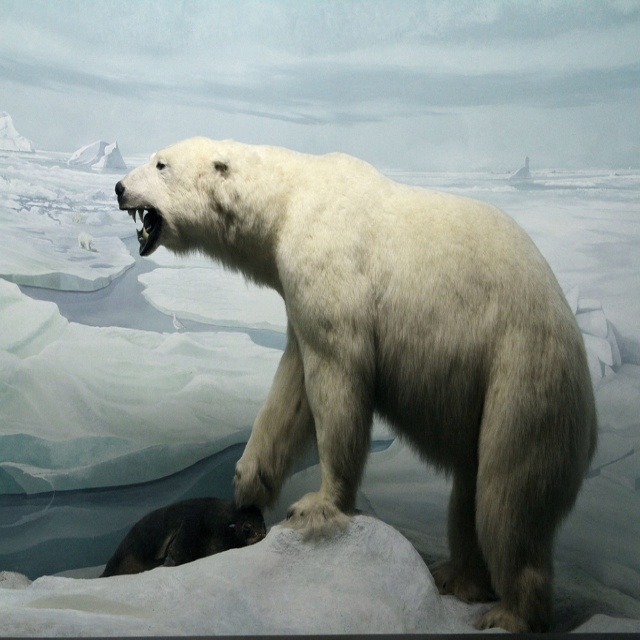Polar bear: (114, 138, 602, 635)
